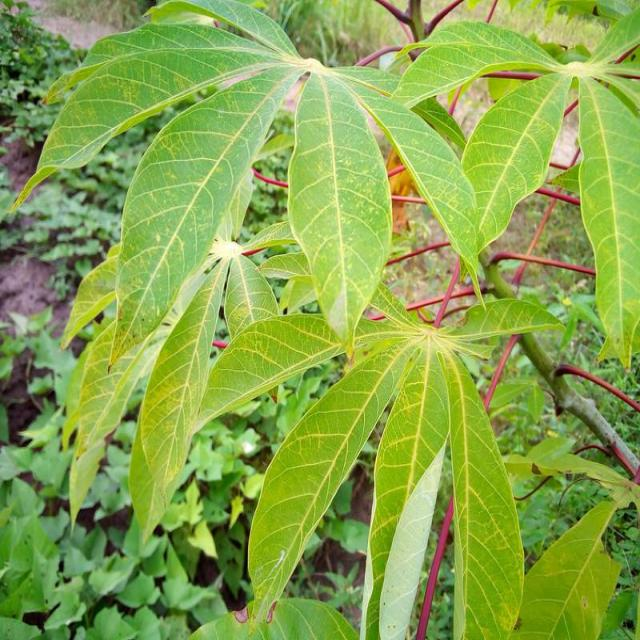cassava leaf: (9, 1, 636, 637), (286, 66, 392, 356)
